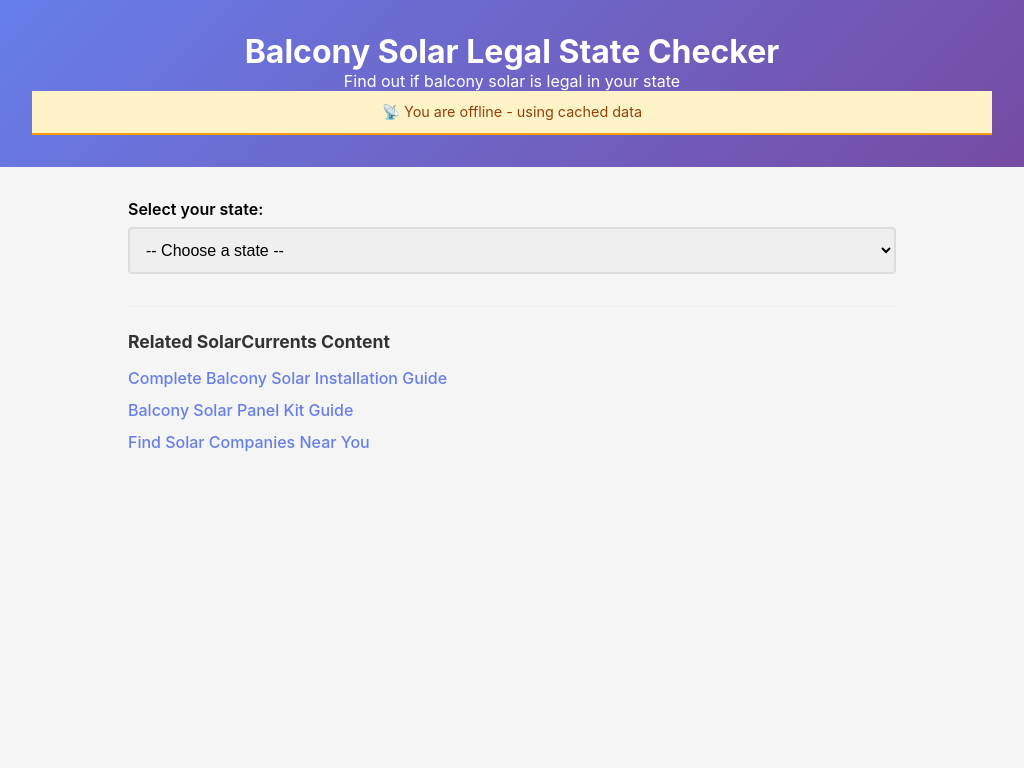
Test: SolarCurrents Integration › Internal Links to Related Content › includes resource data in API response for state lookup
Select New York
Select "New York" in the dropdown at (512, 250), box [128,227,896,274]
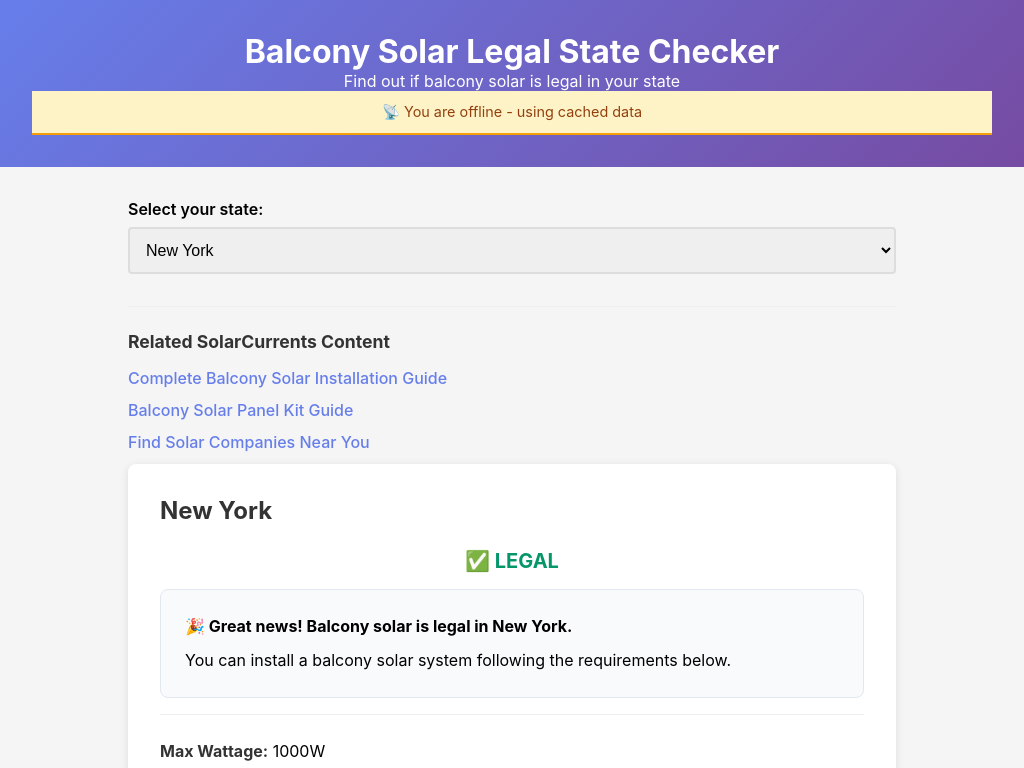
Check: the heading "New York" is shown, box [160,496,272,525]
